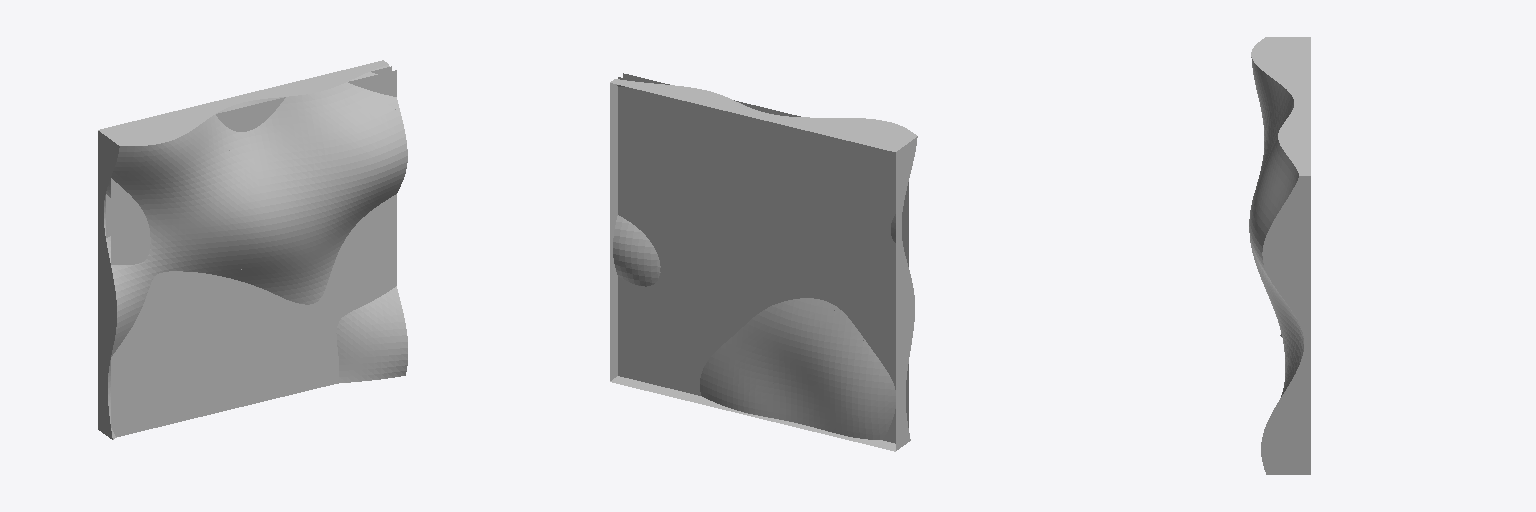
The model's file is terrain.obj.
3 views of the same model, side by side, from view 1: azimuth 30°, elevation 25°; view 2: azimuth 150°, elevation 25°; view 3: azimuth 270°, elevation 25° (orthographic).
Size of the model in its own units: 50 by 50 by 9.31.